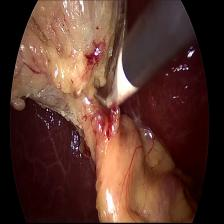Hook: (90, 41, 140, 115)
